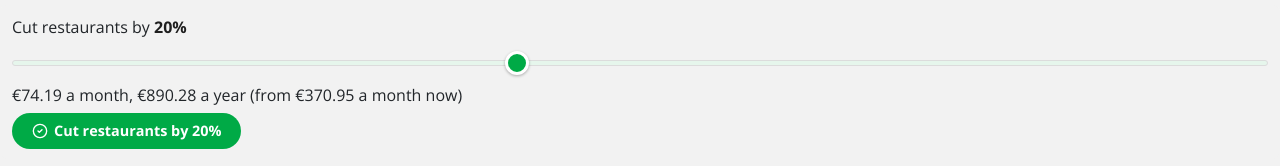
cards › slider reads a 0-1 fraction as percent and can be dragged
expect the text with test id "monthly-saving" reads "€74.19": met, box [12,84,62,106]
Step 1. Set the slider to "30" → (764, 63), box [12,49,1268,77]
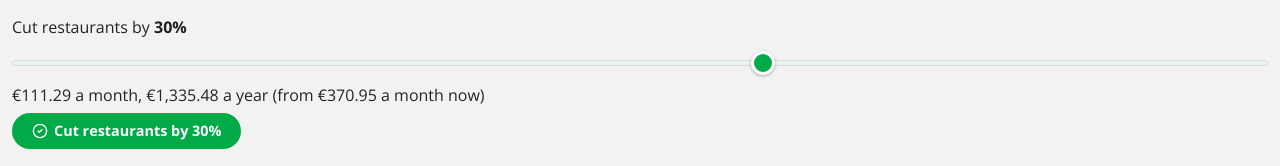
expect the text "30%" is shown: met, box [154,16,187,38]
expect the text with test id "monthly-saving" reads "€111.29": met, box [12,84,71,106]
